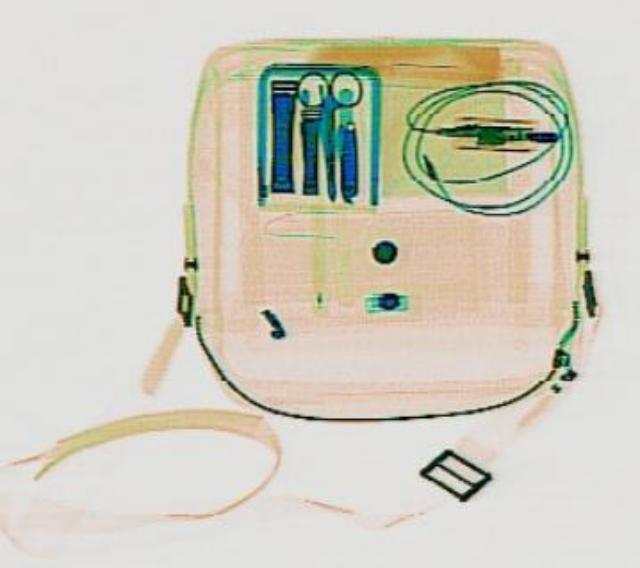Scissors: (294, 66, 364, 197)
